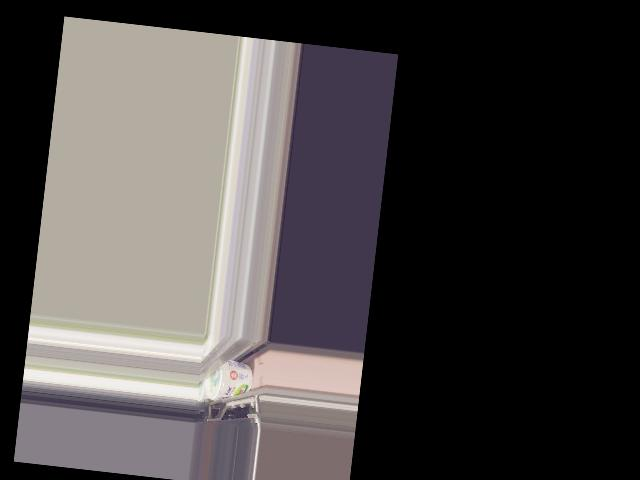cotage: (203, 356, 253, 401)
